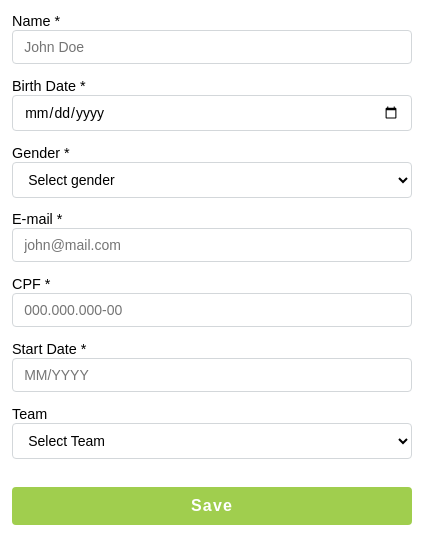
Test: RegistrationForm › should show CPF error message if CPF is invalid
The width and height of the screenshot is (432, 542).
In the field labelled "Name *": (212, 47) [12,30,412,64], type "Fernando"
In the date field labelled "Birth Date *": (212, 113) [12,95,412,131], type "1992-06-13"
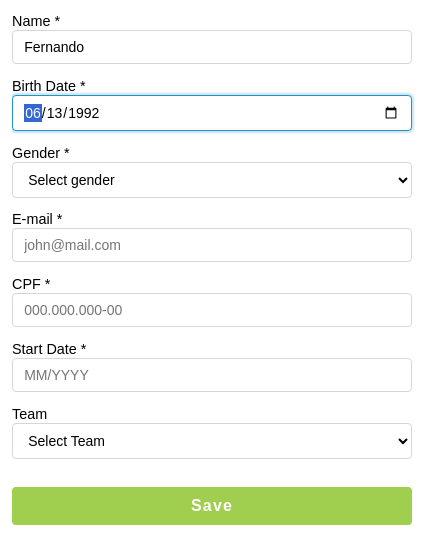
In the field labelled "E-mail *": (212, 245) [12,228,412,262], type "fernando@mail.com"
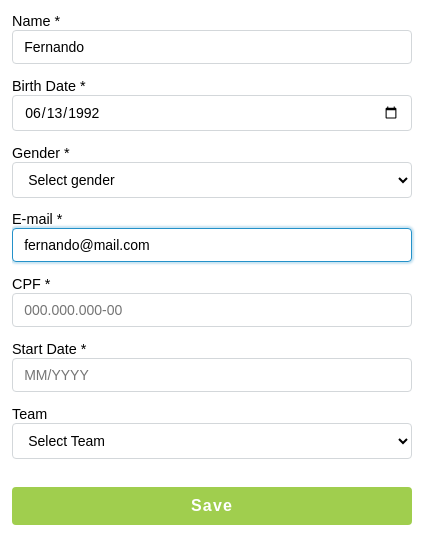
In the field labelled "CPF *": (212, 310) [12,293,412,327], type "11111111111"
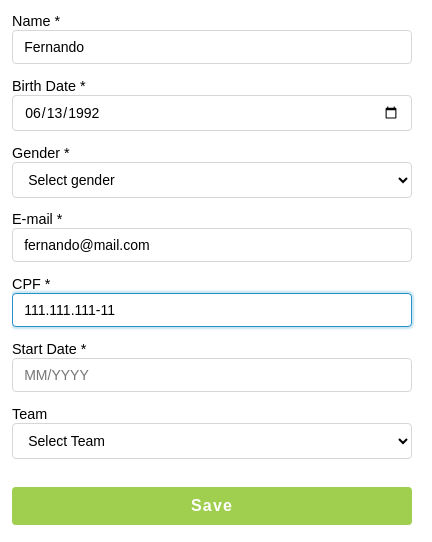
In the field labelled "Start Date *": (212, 375) [12,358,412,392], type "122020"
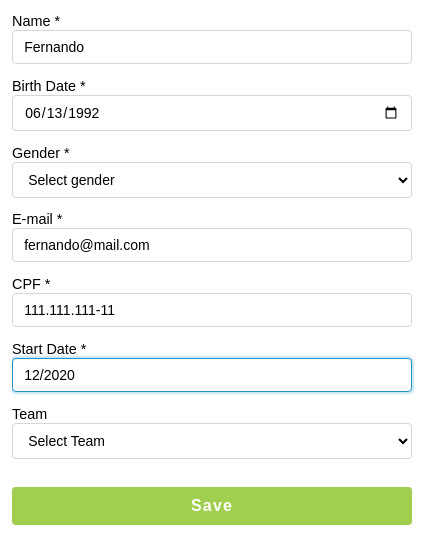
Select "Male" in the dropdown labelled "Gender *": (212, 180) [12,162,412,198]
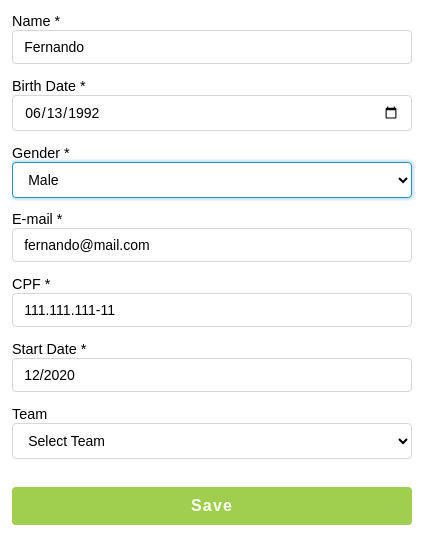
Click the button "Save": (212, 506) [12,487,412,525]
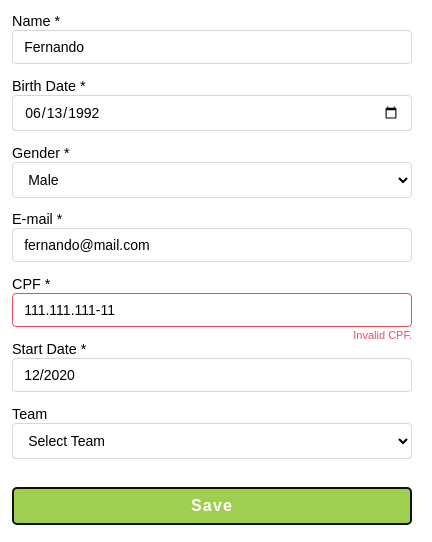
Check: the text "Invalid CPF." is shown, box [353,329,412,341]
